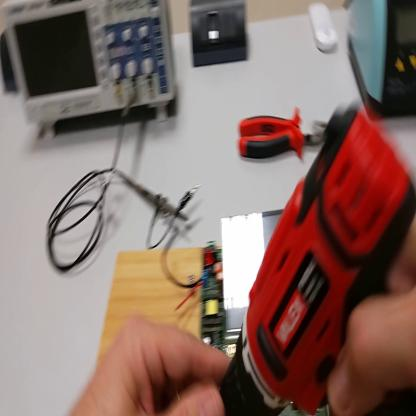electric screwdriver: (221, 108, 416, 416)
hand: (326, 216, 416, 416), (68, 318, 231, 416)
low voltage board: (160, 212, 292, 355)
oscilloscope: (5, 2, 178, 146)
oscilloscope probe tip: (124, 171, 187, 220)
pliers: (239, 110, 329, 163)
socket: (1, 32, 18, 94)
welder station: (346, 5, 415, 117)
working area: (95, 252, 204, 363)
